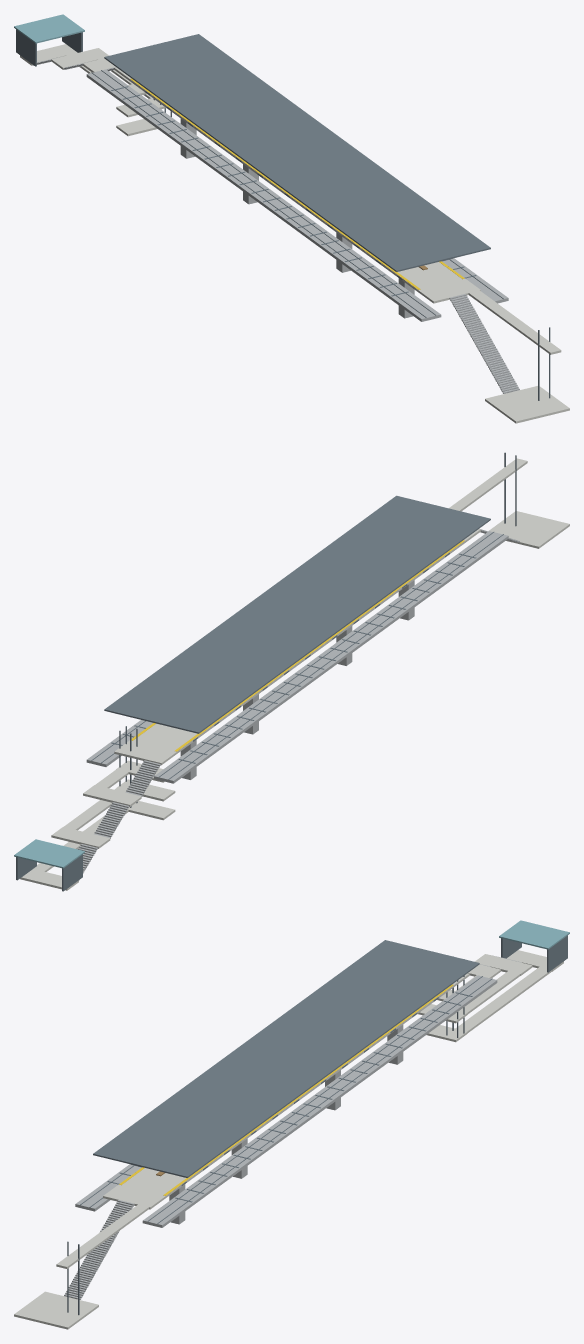
The model's file is main-street-science-world.glb.
3 renders of one model, top to bottom at view 1: azimuth 30°, elevation 25°; view 2: azimuth 150°, elevation 25°; view 3: azimuth 330°, elevation 25°, orthographic.
Parts seen in each view (by area): view 1: batch-removable-roof-steel, batch-trackbed-concrete, batch-stair-tread-concrete, floor-main-east-entry, batch-rail-steel, floor-main-expo, batch-removable-roof-glass, floor-main-east-lift-upper, floor-main-east-top, batch-static-concrete, batch-static-yellow, batch-static-steel (+1 smaller); view 2: batch-removable-roof-steel, batch-trackbed-concrete, batch-rail-steel, floor-main-expo, floor-main-east-entry, batch-stair-tread-concrete, batch-removable-roof-glass, floor-main-east-lift-upper, floor-main-expo-landing, batch-static-concrete, batch-static-yellow, batch-static-steel (+3 smaller); view 3: batch-removable-roof-steel, batch-trackbed-concrete, floor-main-east-entry, batch-rail-steel, floor-main-expo, batch-stair-tread-concrete, floor-main-expo-lift-side, floor-main-east-lift-upper, batch-removable-roof-glass, floor-main-expo-lift-corridor-2, batch-static-concrete, batch-static-yellow (+3 smaller).
Part boxes in pixels (left/top/right/bottom): batch-removable-roof-steel: left=104, top=34, right=490, bottom=271; batch-trackbed-concrete: left=86, top=69, right=508, bottom=321; batch-stair-tread-concrete: left=32, top=56, right=519, bottom=393; floor-main-east-entry: left=485, top=386, right=569, bottom=423; batch-rail-steel: left=91, top=70, right=503, bottom=317; floor-main-expo: left=130, top=79, right=461, bottom=291; batch-removable-roof-glass: left=14, top=14, right=84, bottom=43; floor-main-east-lift-upper: left=466, top=284, right=561, bottom=354; floor-main-east-top: left=418, top=278, right=480, bottom=303; batch-static-concrete: left=180, top=119, right=414, bottom=318; batch-static-yellow: left=130, top=78, right=464, bottom=289; batch-static-steel: left=16, top=29, right=82, bottom=66; batch-removable-roof-steel: left=104, top=495, right=490, bottom=733; batch-trackbed-concrete: left=86, top=531, right=508, bottom=783; batch-rail-steel: left=91, top=532, right=503, bottom=779; floor-main-expo: left=133, top=541, right=465, bottom=753; floor-main-east-entry: left=488, top=511, right=569, bottom=548; batch-stair-tread-concrete: left=78, top=528, right=519, bottom=880; batch-removable-roof-glass: left=14, top=839, right=84, bottom=868; floor-main-east-lift-upper: left=449, top=458, right=527, bottom=511; floor-main-expo-landing: left=114, top=740, right=176, bottom=765; batch-static-concrete: left=180, top=580, right=414, bottom=779; batch-static-yellow: left=131, top=540, right=464, bottom=751; batch-static-steel: left=16, top=854, right=82, bottom=891; batch-removable-roof-steel: left=93, top=940, right=479, bottom=1177; batch-trackbed-concrete: left=75, top=975, right=497, bottom=1227; floor-main-east-entry: left=14, top=1291, right=98, bottom=1329; batch-rail-steel: left=80, top=976, right=492, bottom=1223; floor-main-expo: left=122, top=985, right=453, bottom=1197; batch-stair-tread-concrete: left=64, top=955, right=521, bottom=1299; floor-main-expo-lift-side: left=443, top=963, right=551, bottom=1041; floor-main-east-lift-upper: left=56, top=1196, right=159, bottom=1268; batch-removable-roof-glass: left=499, top=920, right=569, bottom=949; floor-main-expo-lift-corridor-2: left=446, top=963, right=531, bottom=1023; batch-static-concrete: left=169, top=1025, right=403, bottom=1224; batch-static-yellow: left=119, top=984, right=453, bottom=1195.
Bounding box in the file's own units: 14 × 12.05 × 130.
